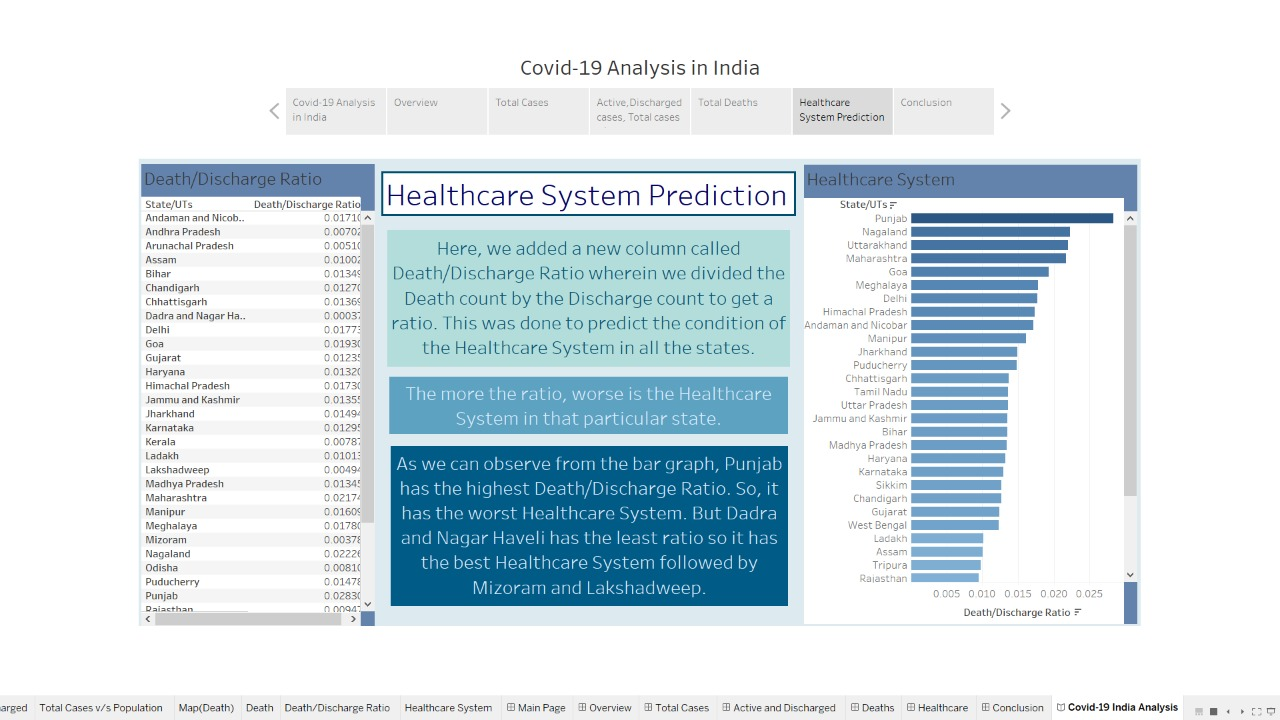

The dashboard page shown, as its layout file describes it:
{"tool":"tableau","page":{"name":"Healthcare","canvas":[1500,700],"ordinal":3},"visuals":[{"type":"worksheet","title":"Death/Discharge Ratio","mark":"Automatic","rows":["State/UTs"],"box":[2,4,350,693]},{"type":"worksheet","title":"Healthcare System","mark":"Automatic","rows":["State/UTs"],"cols":["Calculation_777152455396167681"],"box":[996,5,500,689]},{"type":"text","box":[362,15,622,67]},{"type":"text","box":[371,103,604,205]},{"type":"text","box":[374,323,598,86]},{"type":"text","box":[376,427,596,240]}]}

Visuals, with their boxes on the page's 1500x700 design canvas (x1, y1, x2, y2). These are canvas units, not pixel positions in the 1280x720 screenshot, which may show the page scaled, cropped or inside an application window:
"Death/Discharge Ratio" worksheet: l=2, t=4, r=352, b=697
"Healthcare System" worksheet: l=996, t=5, r=1496, b=694
text: l=362, t=15, r=984, b=82
text: l=371, t=103, r=975, b=308
text: l=374, t=323, r=972, b=409
text: l=376, t=427, r=972, b=667
